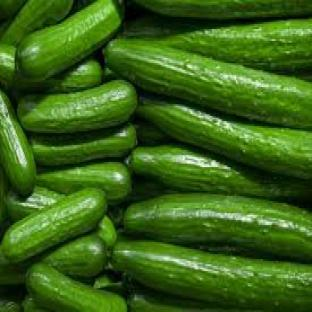Cucumber: (106, 40, 311, 127), (138, 98, 311, 179), (113, 241, 311, 311), (124, 193, 311, 262), (125, 16, 311, 71), (130, 145, 311, 201), (2, 188, 106, 262), (18, 81, 137, 132), (0, 43, 103, 93), (28, 265, 127, 311), (30, 125, 136, 165), (37, 162, 131, 202), (0, 91, 36, 194), (122, 12, 232, 39), (42, 234, 106, 277), (129, 287, 241, 311), (5, 186, 63, 221), (128, 176, 173, 202), (0, 248, 24, 288), (94, 272, 127, 296), (136, 122, 171, 144), (0, 43, 15, 86), (0, 166, 9, 236), (97, 217, 116, 247), (108, 203, 124, 228), (23, 297, 47, 311), (0, 299, 21, 311), (292, 69, 311, 81), (0, 21, 10, 40), (104, 67, 117, 81)
